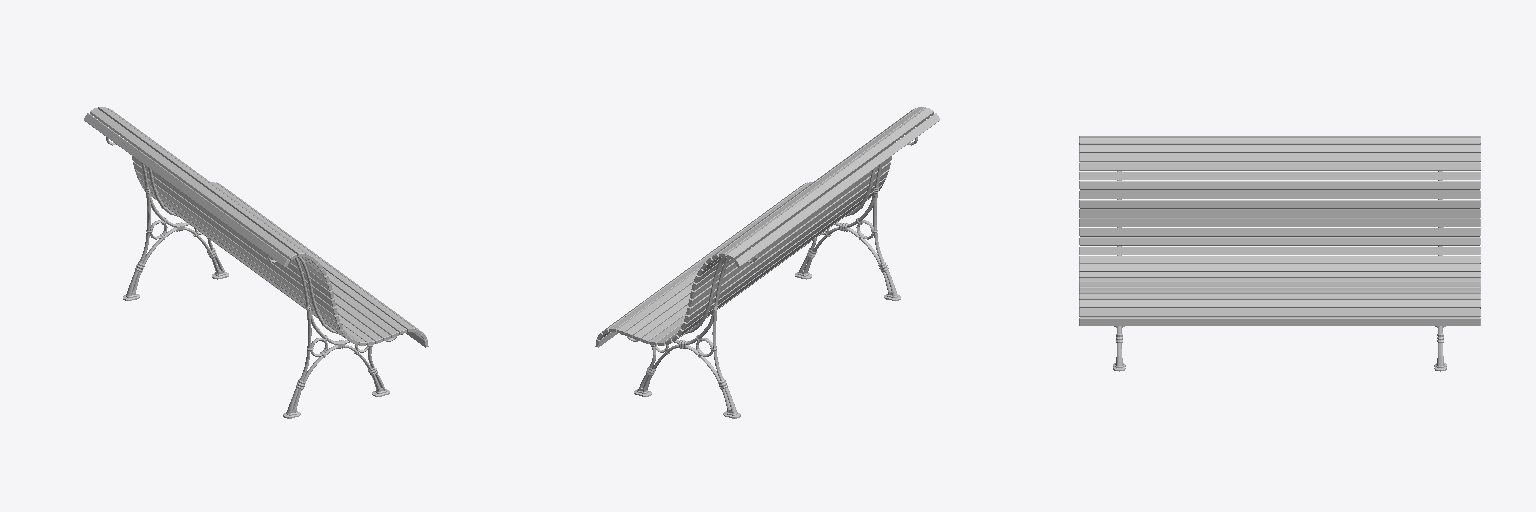
Rendered from Banco.obj.
The picture shows the model from 3 angles: view 1: azimuth 30°, elevation 25°; view 2: azimuth 150°, elevation 25°; view 3: azimuth 270°, elevation 25°; orthographic projection.
Visible parts, largest first — view 1: laths, rack; view 2: laths, rack; view 3: laths, rack.
Part boxes in pixels (x1,y1,x2,y2): laths: (84,107,428,347); rack: (106,130,402,418); laths: (595,107,939,347); rack: (621,130,917,418); laths: (1079,136,1480,325); rack: (1113,171,1446,371).
Bounding box in the file's own units: 1.57 × 1.86 × 3.76.